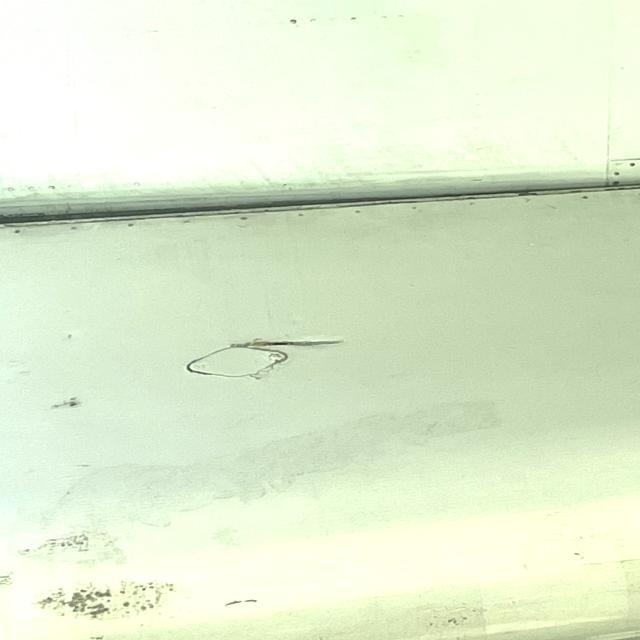crack: (216, 328, 360, 355)
